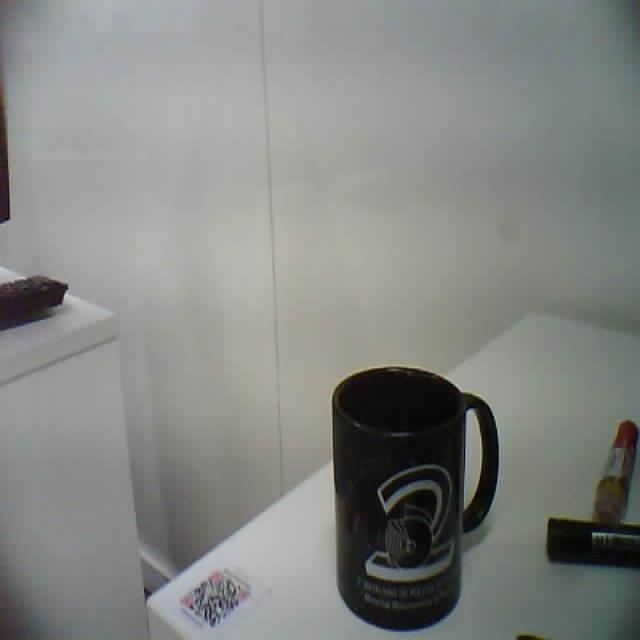caneca: (332, 368, 498, 630)
